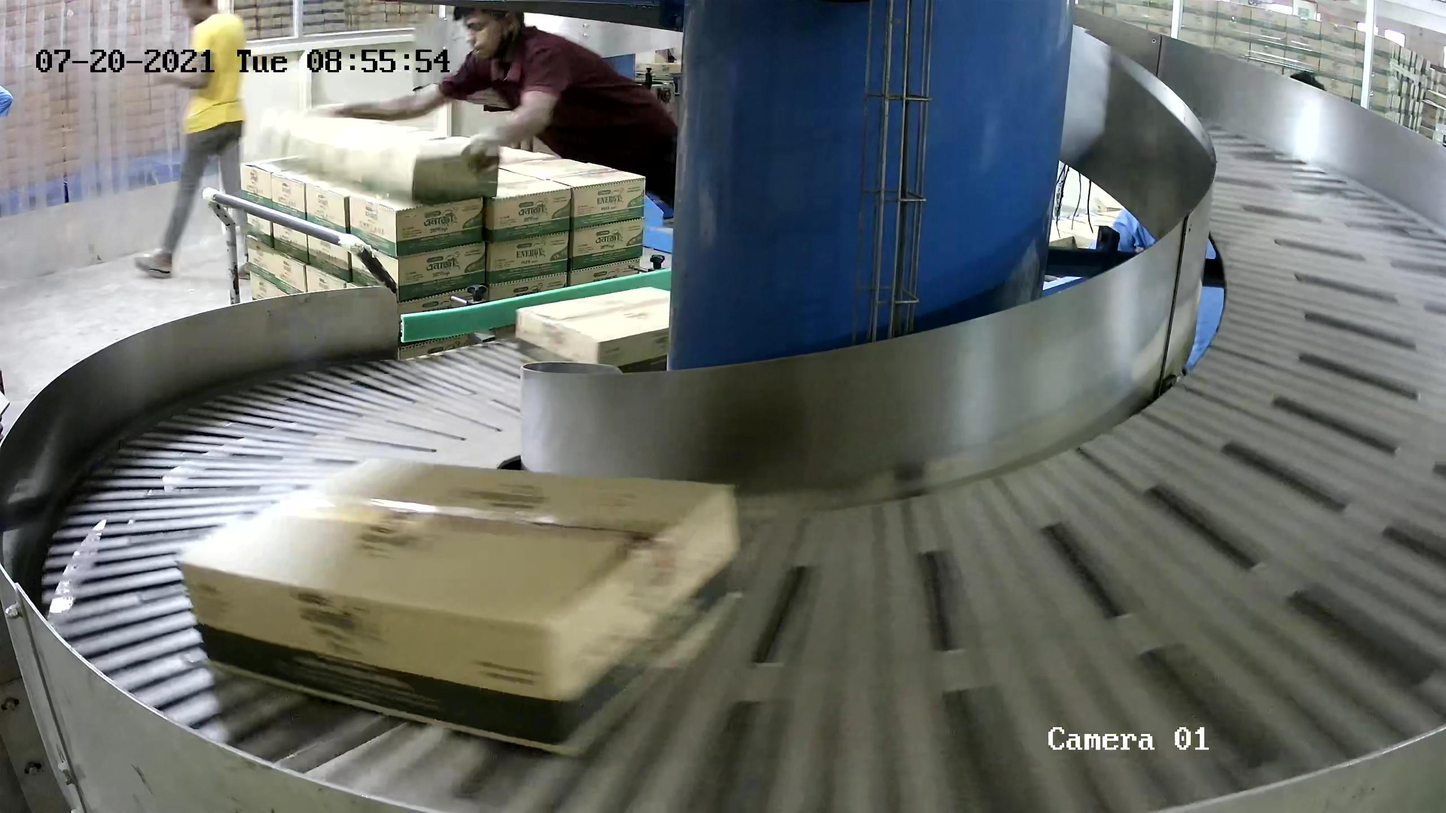Box: (175, 456, 742, 759), (516, 285, 718, 389)
